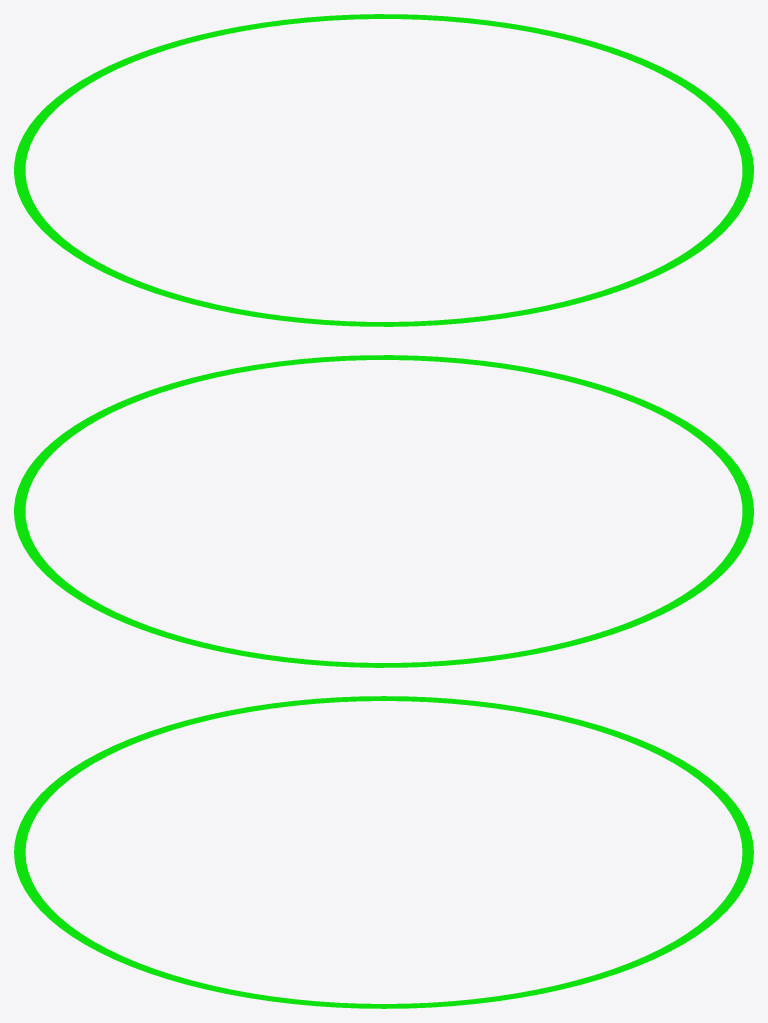
File: Range.dae
The picture shows the model from 3 angles, top to bottom: view 1: azimuth 30°, elevation 25°; view 2: azimuth 150°, elevation 25°; view 3: azimuth 270°, elevation 25°; orthographic projection.
Parts seen in each view (by area): view 1: Disc; view 2: Disc; view 3: Disc.
Boxes of the visible parts, box(x1,y1,x2,y2) form: Disc: box(14, 14, 753, 326); Disc: box(14, 355, 753, 667); Disc: box(14, 696, 753, 1008).
Size of the model in its own units: 2 by 0 by 2.
